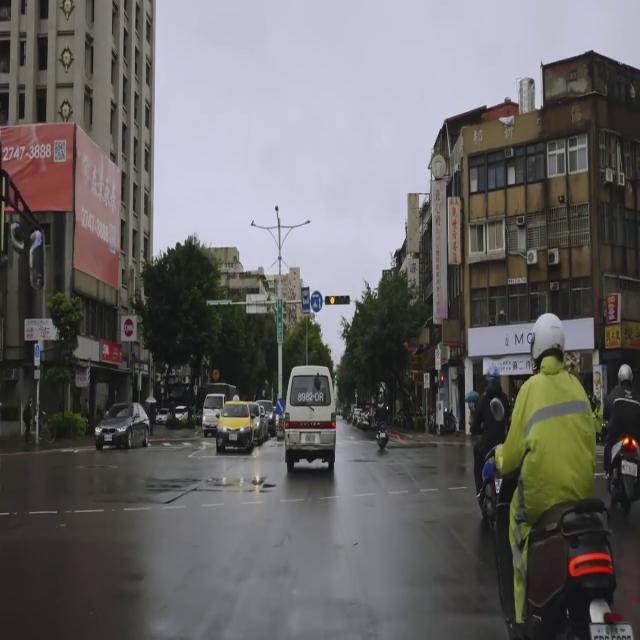yellow light: (325, 295, 350, 305)
